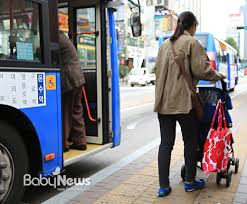out: (34, 1, 138, 170)
